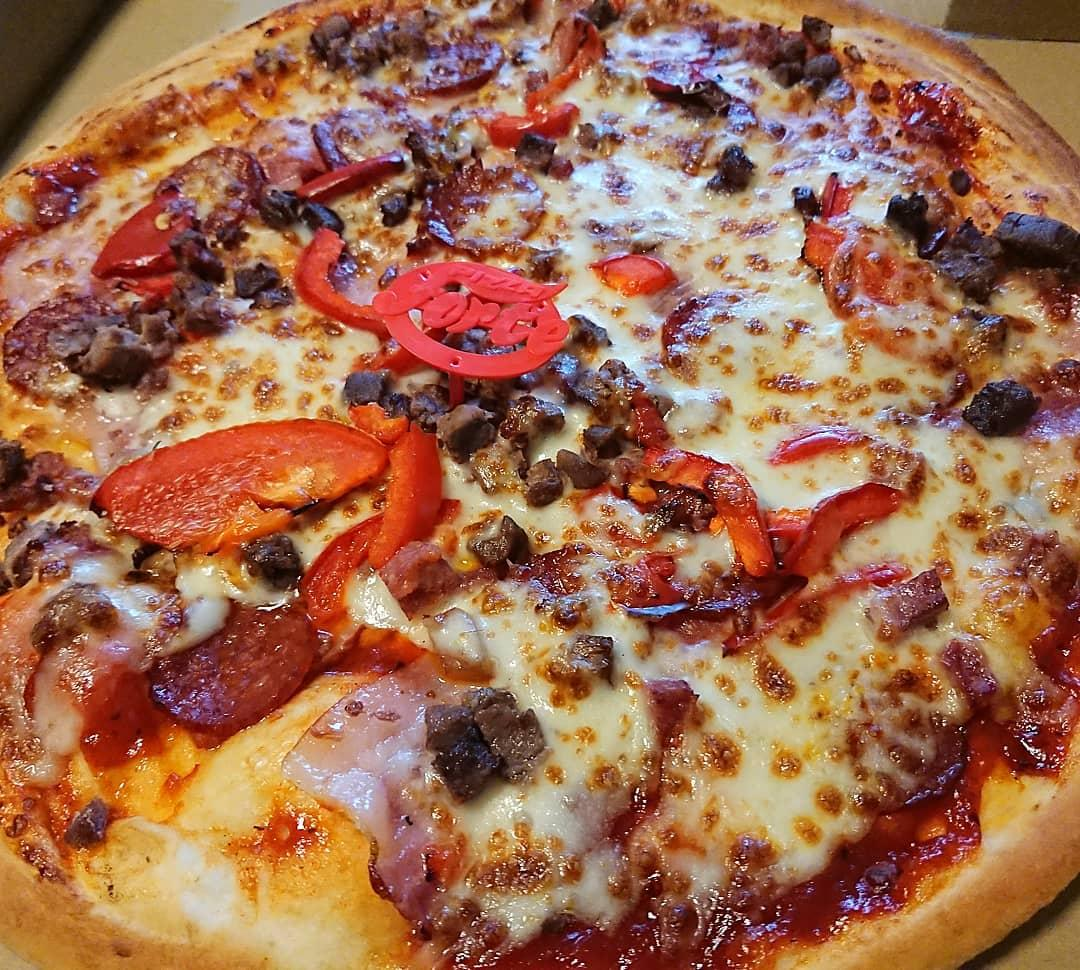Ham: (301, 676, 476, 892)
Pepperoni: (23, 596, 176, 762), (156, 596, 326, 719), (836, 686, 971, 819), (246, 106, 423, 184), (1, 296, 134, 389), (421, 171, 540, 259), (161, 141, 268, 237), (546, 548, 640, 634), (883, 81, 976, 159), (661, 301, 751, 380), (388, 36, 511, 87)
Pizza: (6, 1, 1080, 970)
Tomatoes: (106, 413, 376, 534), (306, 526, 458, 674), (343, 418, 473, 570), (646, 451, 773, 552), (296, 228, 423, 324), (798, 481, 896, 567), (101, 198, 196, 271), (601, 251, 675, 300), (483, 106, 581, 137)
